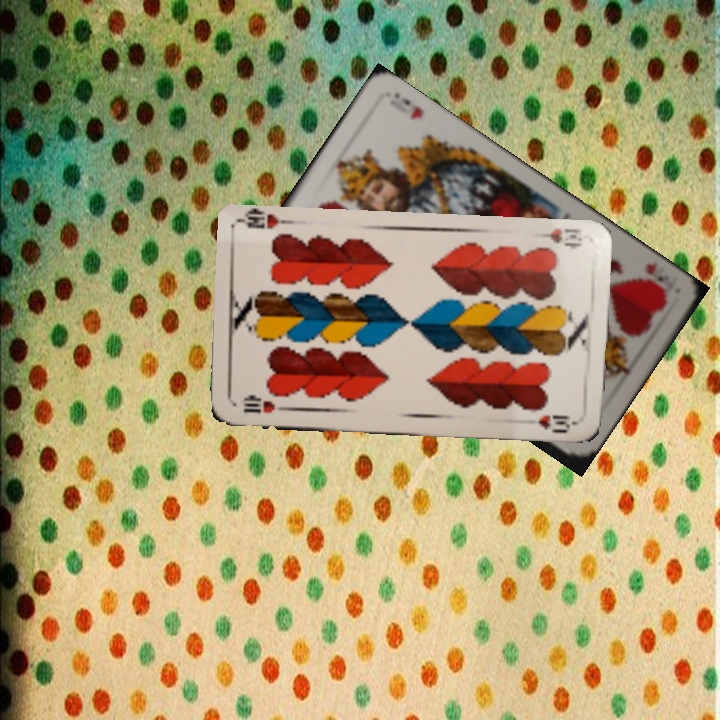H10: (529, 224, 585, 251), (239, 395, 291, 416)
HK: (641, 259, 677, 297)
